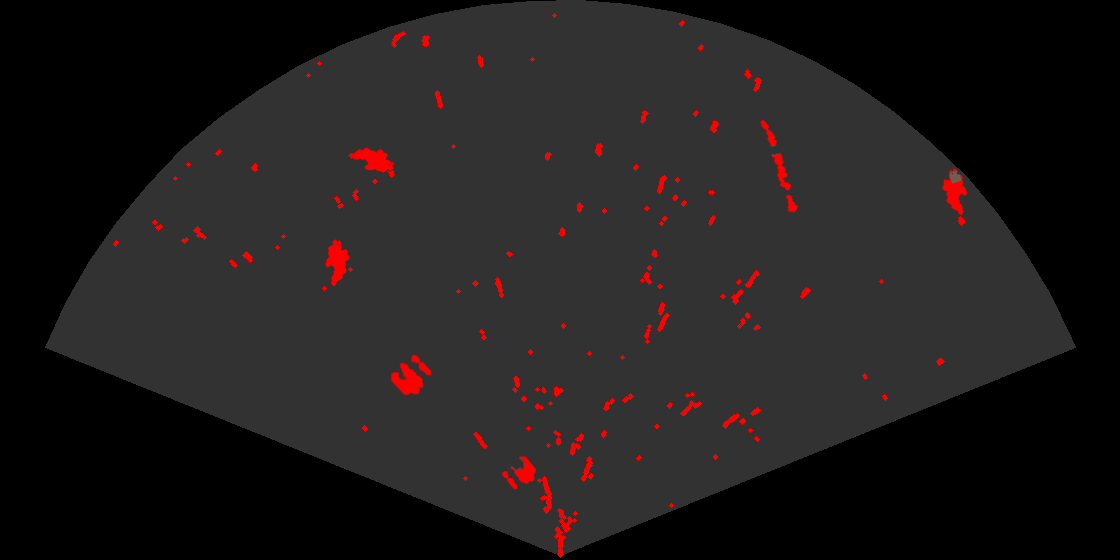AUV: (941, 167, 969, 217), (347, 146, 396, 174), (324, 238, 351, 288)
ball: (389, 353, 433, 397), (500, 455, 538, 491)
chain: (759, 118, 800, 215)
